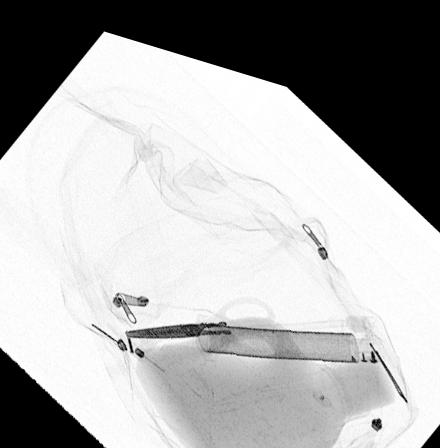Scissors: (124, 280, 284, 340)
